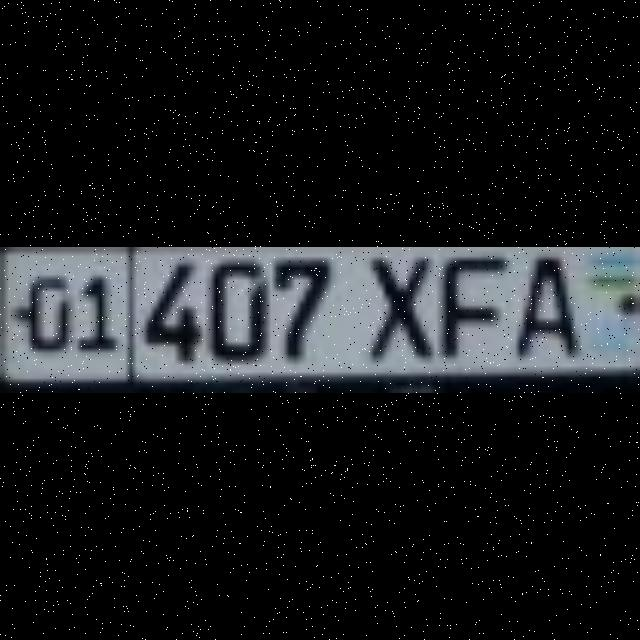0: (202, 247, 262, 351), (18, 266, 62, 338)
1: (72, 266, 110, 338)
4: (140, 259, 196, 357)
7: (268, 253, 324, 351)
A: (512, 247, 572, 351)
F: (432, 247, 500, 351)
X: (366, 247, 426, 351)
